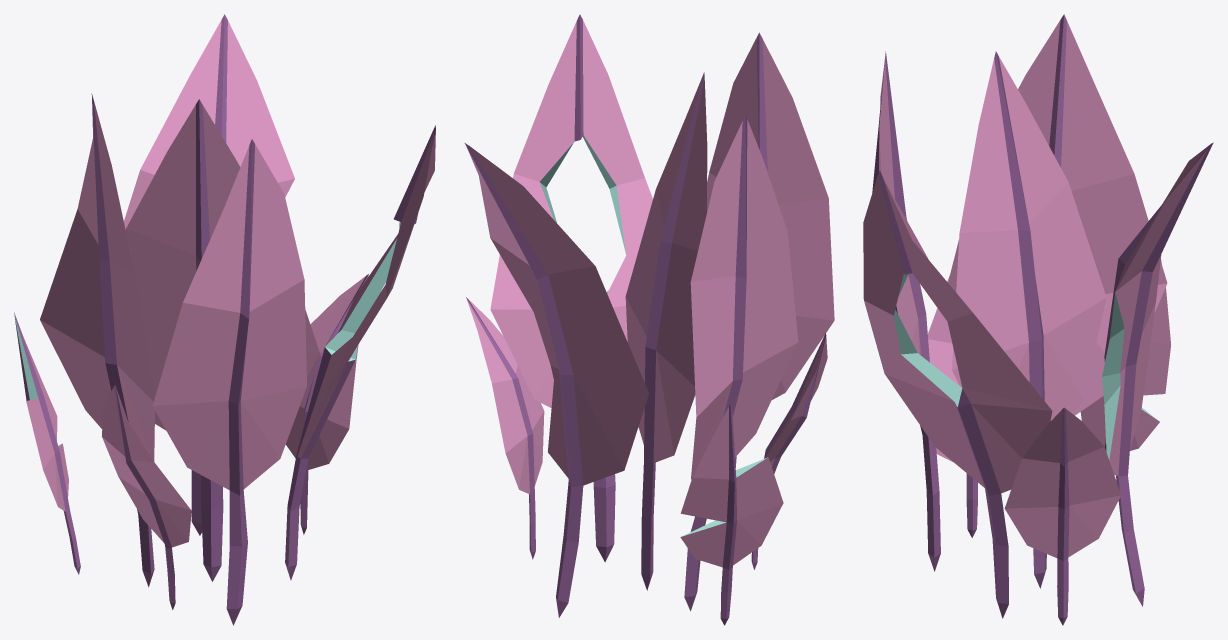
The model's file is Gras_03_Var_07.fbx.
The picture shows the model from 3 angles, left to right: view 1: azimuth 30°, elevation 25°; view 2: azimuth 150°, elevation 25°; view 3: azimuth 270°, elevation 25°; orthographic projection. The views are drawn at different scales.
Visible parts, largest first — view 1: Gras_03_Var_07; view 2: Gras_03_Var_07; view 3: Gras_03_Var_07.
Part boxes in pixels (box(x1,y1,x2,y2)): Gras_03_Var_07: box(14, 14, 435, 625); Gras_03_Var_07: box(464, 14, 834, 625); Gras_03_Var_07: box(863, 14, 1213, 625).
Bounding box in the file's own units: 0.1345 × 0.2205 × 0.1461.
